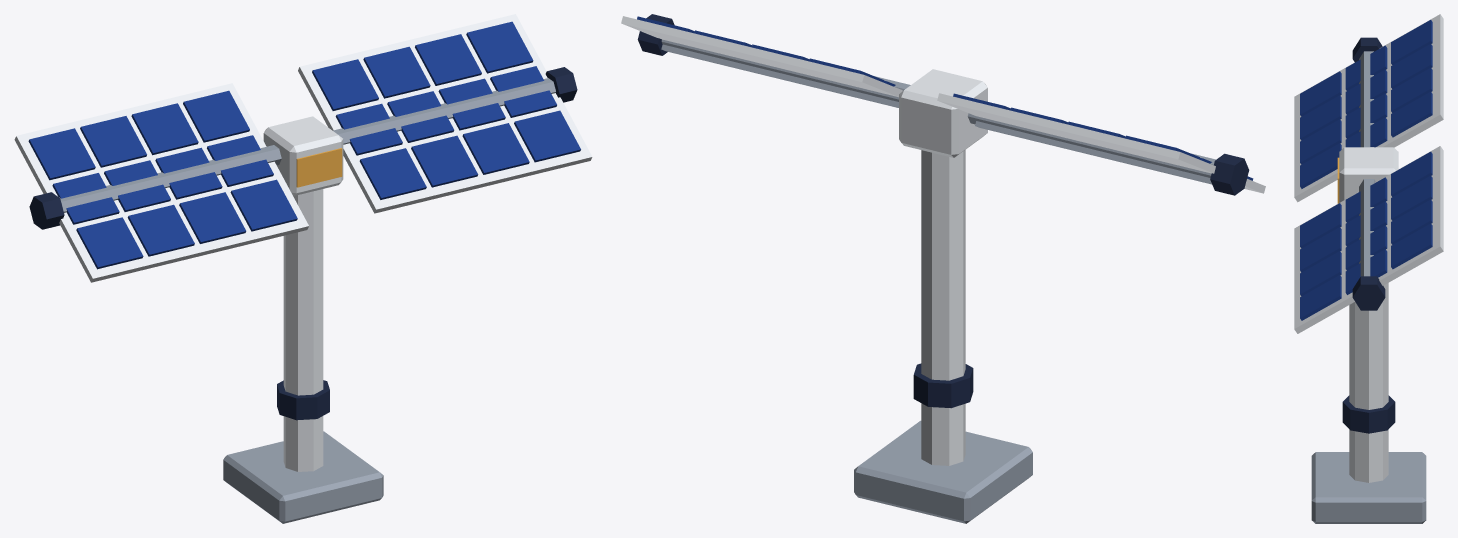
Rendered from solar_array.glb.
The picture shows the model from 3 angles, left to right: view 1: azimuth 30°, elevation 25°; view 2: azimuth 150°, elevation 25°; view 3: azimuth 270°, elevation 25°; orthographic projection. The views are drawn at different scales.
Parts seen in each view (by area): view 1: solar_array; view 2: solar_array; view 3: solar_array.
Part boxes in pixels (left/top/right/bottom): solar_array: left=14, top=14, right=592, bottom=523; solar_array: left=621, top=14, right=1265, bottom=523; solar_array: left=1294, top=14, right=1443, bottom=523.
Size of the model in its own units: 3.56 by 2.5 by 0.9116.
